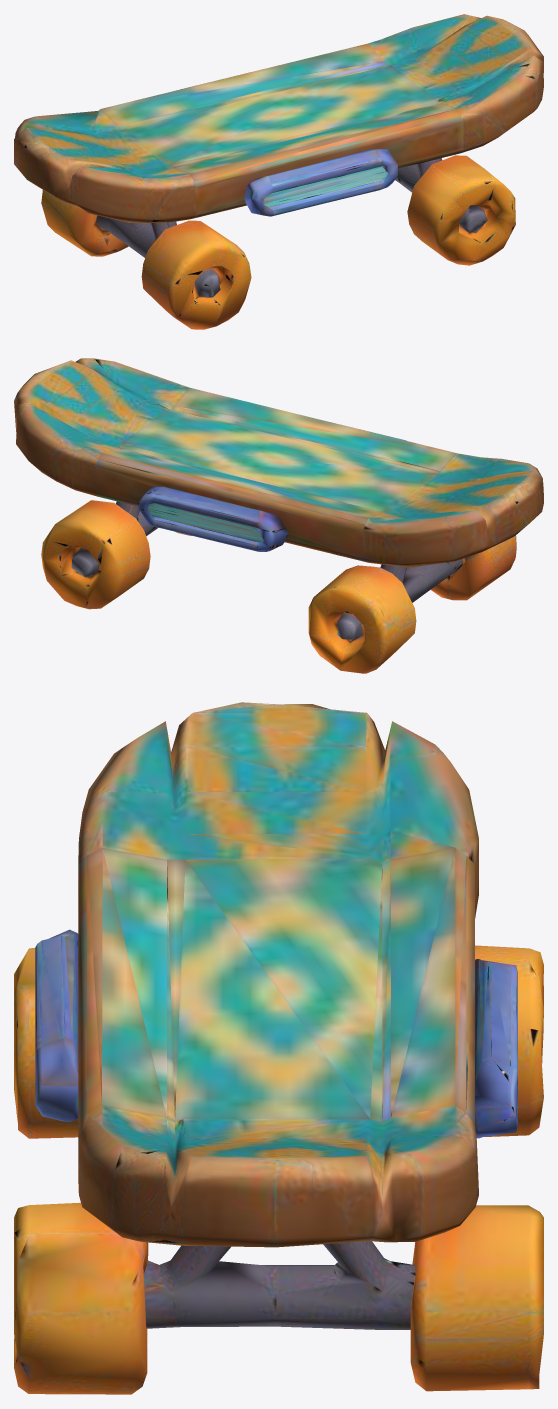
File: board.glb
3 views of the same model, one above another, from view 1: azimuth 30°, elevation 25°; view 2: azimuth 150°, elevation 25°; view 3: azimuth 270°, elevation 25° (orthographic). The views are drawn at different scales.
Parts seen in each view (by area): view 1: geometry_0; view 2: geometry_0; view 3: geometry_0.
Part boxes in pixels (box(x1,y1,x2,y2)): geometry_0: box(14, 14, 543, 329); geometry_0: box(14, 358, 543, 673); geometry_0: box(14, 702, 543, 1394).
Size of the model in its own units: 0.9575 by 0.3013 by 0.4468.
1 material, 1 textured.
